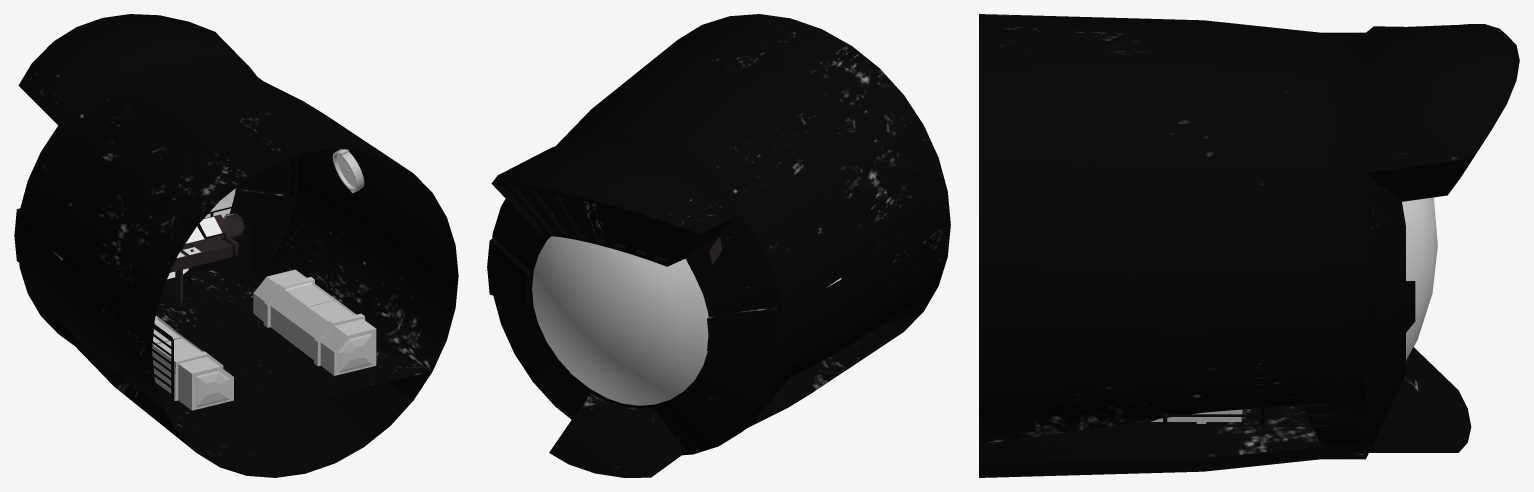
The model's file is sub-cockpit final alternate.fbx.
3 views of the same model, side by side, from view 1: azimuth 30°, elevation 25°; view 2: azimuth 150°, elevation 25°; view 3: azimuth 270°, elevation 25° (orthographic). The views are drawn at different scales.
Visible parts, largest first — view 1: Cylinder, Cube.010, Cube, Cube.003, Cylinder.001; view 2: Cylinder, Sphere.002; view 3: Cylinder, Sphere.002, Cube, Cube.010.
Boxes of the visible parts, bbox=[...] form: Cylinder: bbox=[14, 14, 458, 477]; Cube.010: bbox=[152, 269, 376, 410]; Cube: bbox=[152, 200, 377, 400]; Cube.003: bbox=[170, 213, 245, 305]; Cylinder.001: bbox=[332, 149, 364, 192]; Cylinder: bbox=[487, 14, 950, 477]; Sphere.002: bbox=[532, 236, 708, 405]; Cylinder: bbox=[979, 14, 1519, 477]; Sphere.002: bbox=[1402, 197, 1437, 359]; Cube: bbox=[1120, 404, 1332, 426]; Cube.010: bbox=[1151, 409, 1242, 423].
Bounding box in the file's own units: 549 × 549 × 639.
